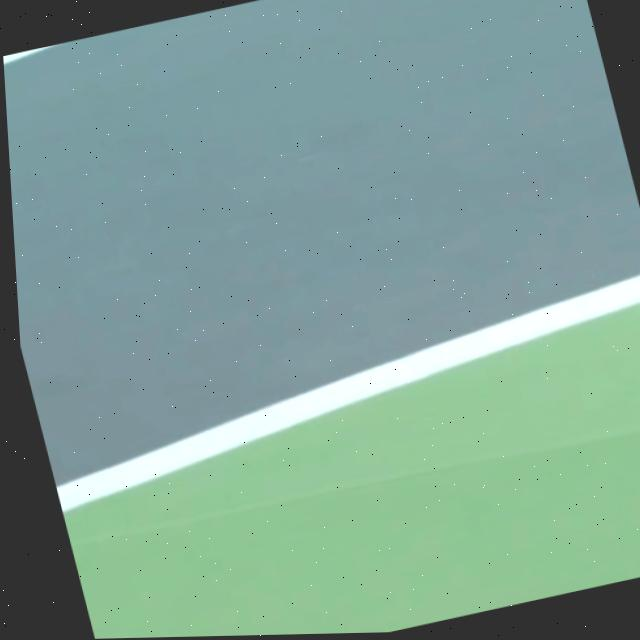center: (3, 47, 46, 63)
right: (55, 274, 640, 511)
